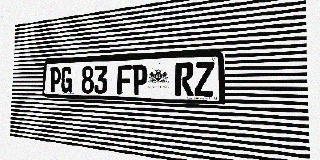3: (94, 65, 108, 94)
8: (81, 66, 94, 94)
F: (117, 65, 132, 95)
G: (61, 67, 73, 93)
P: (132, 64, 148, 95), (50, 67, 61, 93)
R: (175, 62, 194, 96)
Z: (194, 62, 214, 97)
